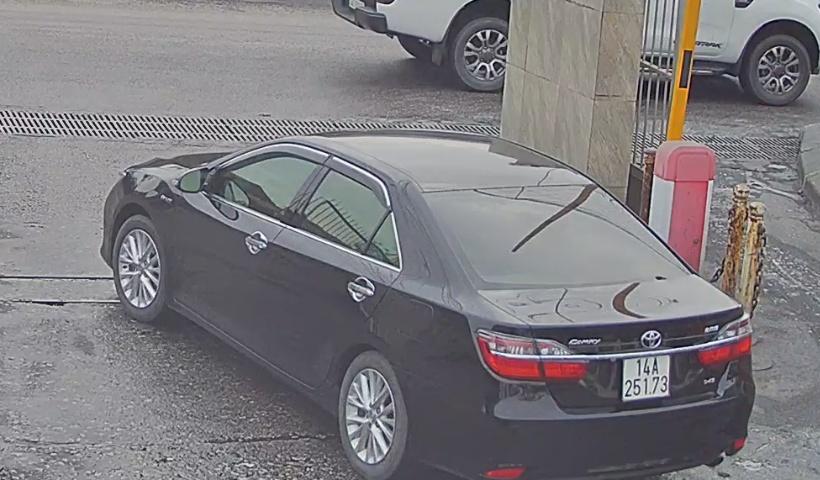vehicle plate: (616, 348, 683, 408)
